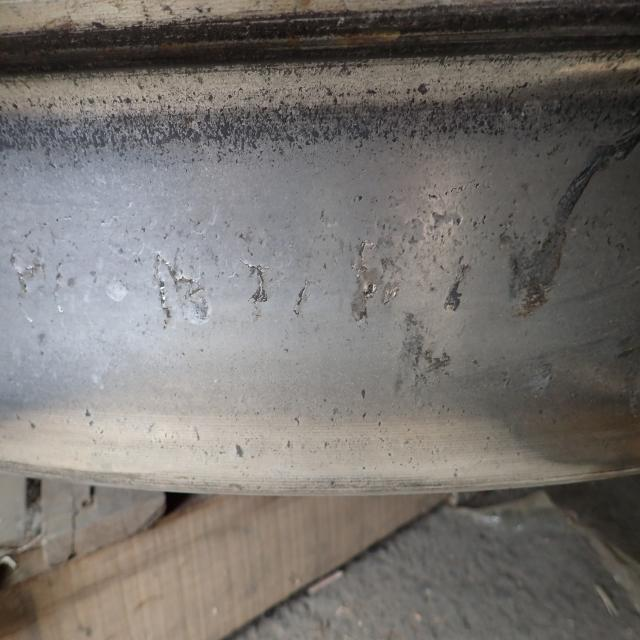Contact_Fatigue_Cracks: (352, 240, 398, 321), (158, 258, 213, 324), (244, 260, 269, 305)
Peeling: (497, 226, 571, 315), (404, 318, 452, 390), (444, 267, 463, 310), (432, 211, 464, 234), (297, 283, 310, 314)
